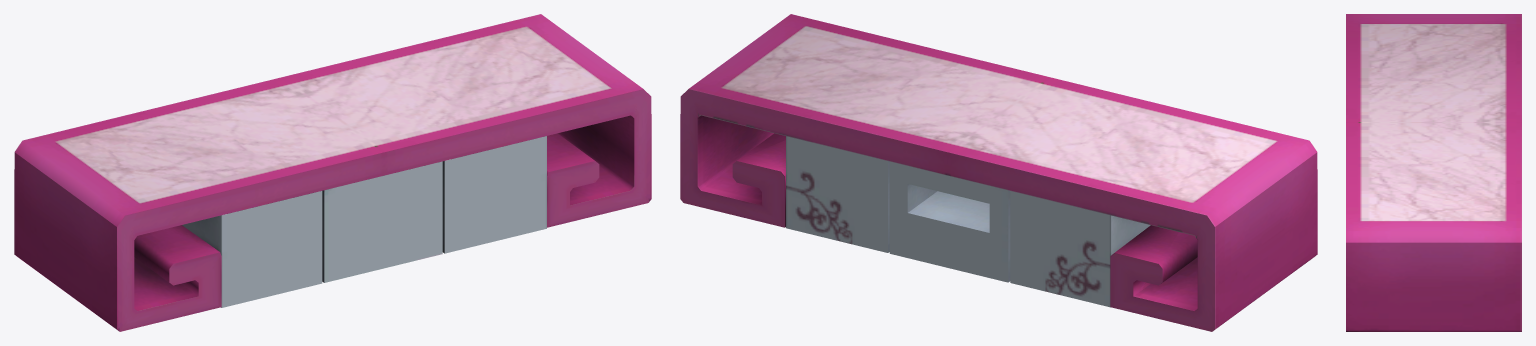
File: furni_0200505_01.FBX
3 views of the same model, side by side, from view 1: azimuth 30°, elevation 25°; view 2: azimuth 150°, elevation 25°; view 3: azimuth 270°, elevation 25° (orthographic). The views are drawn at different scales.
Visible parts, largest first — view 1: furni_0200505_01; view 2: furni_0200505_01; view 3: furni_0200505_01.
Boxes of the visible parts, box(x1,y1,x2,y2) form: furni_0200505_01: box(14, 14, 651, 331); furni_0200505_01: box(680, 14, 1317, 331); furni_0200505_01: box(1346, 14, 1521, 331).
Bounding box in the file's own units: 241 × 49.93 × 79.88.
1 material, 1 textured.
